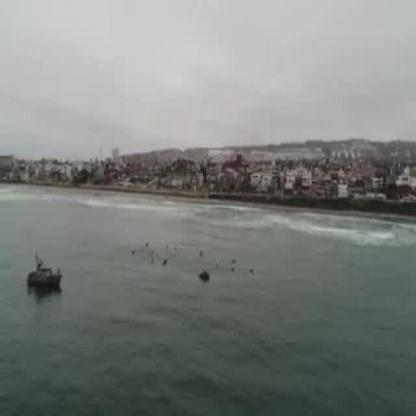Boat: (21, 256, 69, 302)
